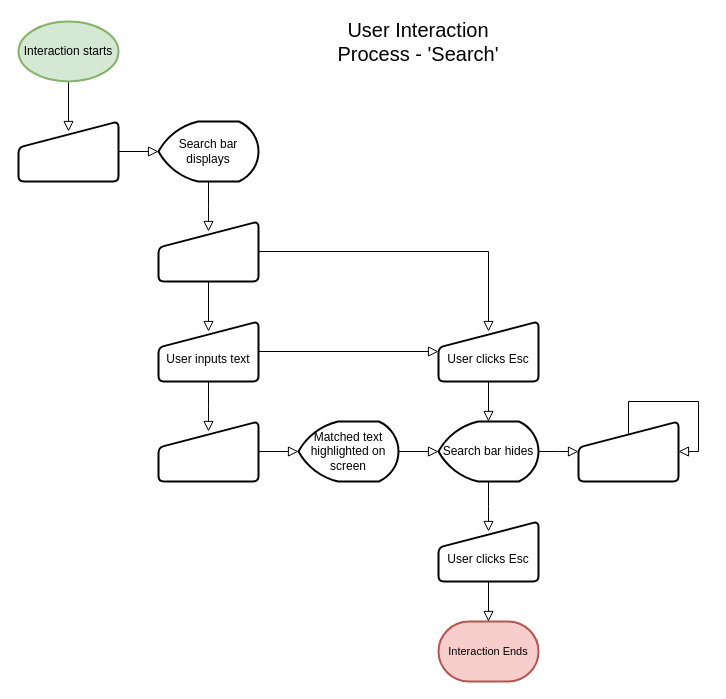
Image size: 726x699. Some labels were removed from this diagram. The centre of each missing label's shape, as x and y in pixels:
User clicks alt/F12: (68,151)
User clicks Enter: (208,451)
User clicks search bar: (208,251)
User performs other interaction: (628,451)
